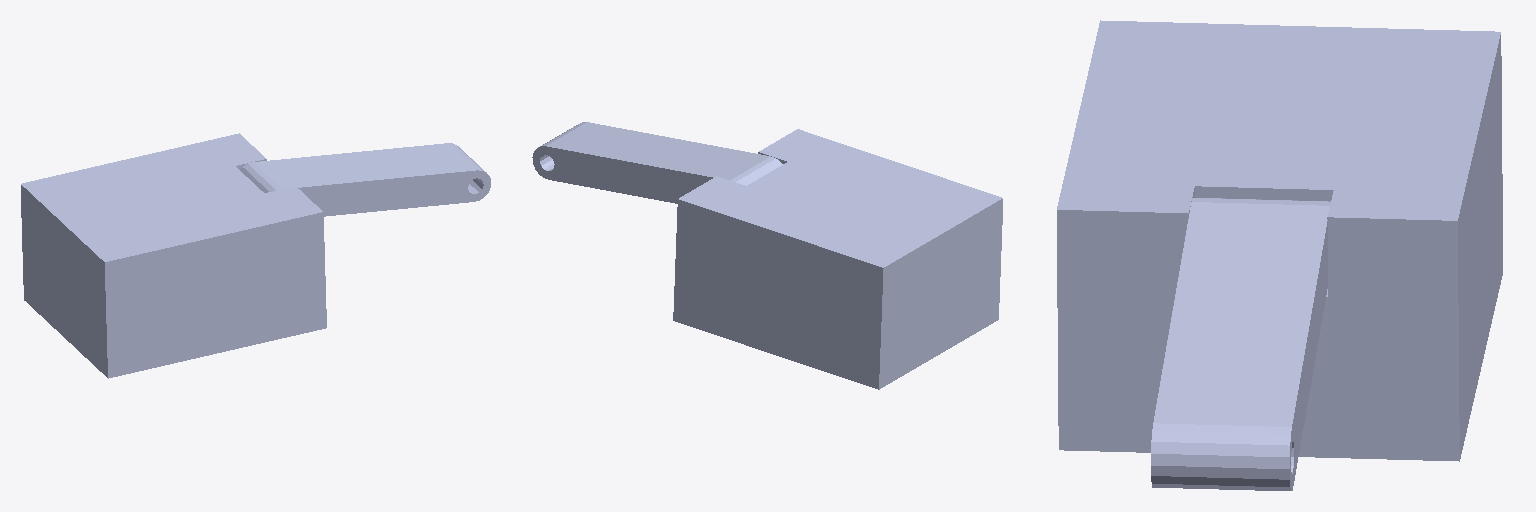
The robot description file, URDF, robot "disco":
<?xml version="1.0" encoding="utf-8"?>
<!-- This URDF was automatically created by SolidWorks to URDF Exporter! Originally created by [author] ([email redacted]) 
     Commit Version: 1.6.0-1-g15f4949  Build Version: 1.6.7594.29634
     For more information, please see http://wiki.ros.org/sw_urdf_exporter -->
<robot
  name="disco">
  <link
    name="base_link">
    <inertial>
      <origin
        xyz="-0.0577245160539221 0.00930438441947077 0.0504215490642201"
        rpy="0 0 0" />
      <mass
        value="0.0760060635936837" />
      <inertia
        ixx="1.9435707298114E-05"
        ixy="-1.326432259085E-07"
        ixz="-4.87335854153079E-07"
        iyy="3.30224471324617E-05"
        iyz="7.9553558702505E-08"
        izz="2.48720476713223E-05" />
    </inertial>
    <visual>
      <origin
        xyz="0 0 0"
        rpy="0 0 0" />
      <geometry>
        <mesh
          filename="package://disco/meshes/base_link.STL" />
      </geometry>
      <material
        name="">
        <color
          rgba="0.792156862745098 0.819607843137255 0.933333333333333 1" />
      </material>
    </visual>
    <collision>
      <origin
        xyz="0 0 0"
        rpy="0 0 0" />
      <geometry>
        <mesh
          filename="package://disco/meshes/base_link.STL" />
      </geometry>
    </collision>
  </link>
  <link
    name="link 1">
    <inertial>
      <origin
        xyz="0.025 0.0078084 3.4694E-18"
        rpy="0 0 0" />
      <mass
        value="0.0068021" />
      <inertia
        ixx="1.8206E-07"
        ixy="3.987E-22"
        ixz="4.7149E-23"
        iyy="1.6927E-06"
        iyz="3.3087E-24"
        izz="1.8009E-06" />
    </inertial>
    <visual>
      <origin
        xyz="0 0 0"
        rpy="0 0 0" />
      <geometry>
        <mesh
          filename="package://disco/meshes/link 1.STL" />
      </geometry>
      <material
        name="">
        <color
          rgba="0.79216 0.81961 0.93333 1" />
      </material>
    </visual>
    <collision>
      <origin
        xyz="0 0 0"
        rpy="0 0 0" />
      <geometry>
        <mesh
          filename="package://disco/meshes/link 1.STL" />
      </geometry>
    </collision>
  </link>
  <joint
    name="joint 1"
    type="continuous">
    <origin
      xyz="-0.033183 -0.044816 0.02141"
      rpy="-3.1306 0.098683 -0.088193" />
    <parent
      link="base_link" />
    <child
      link="link 1" />
    <axis
      xyz="0 1 0" />
  </joint>
</robot>

--- Render facts (derived) ---
3 views of the same robot in one strip: view 1: azimuth 30°, elevation 25°; view 2: azimuth 150°, elevation 25°; view 3: azimuth 270°, elevation 25° (orthographic).
Model disco with 2 links and 1 joints (1 continuous), rooted at base_link, posed all joints at 0.
Links seen in each view (by area): view 1: base_link, link 1; view 2: base_link, link 1; view 3: base_link, link 1.
Boxes of the visible links, box(x1,y1,x2,y2) form: base_link: box(21, 133, 326, 378); link 1: box(240, 143, 490, 216); base_link: box(673, 129, 1002, 389); link 1: box(532, 122, 782, 203); base_link: box(1057, 20, 1502, 461); link 1: box(1151, 198, 1330, 490).
Bounding box of the posed robot: 0.108 × 0.0513 × 0.0324 m (x, y, z).
2 mesh visuals loaded from 2 distinct referenced files (2 binary STL).